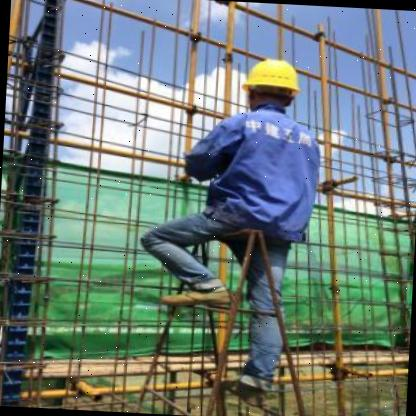capacete: (241, 52, 303, 100)
